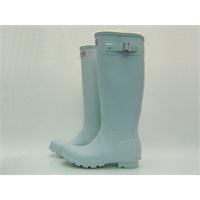shoe: (48, 31, 145, 167)
